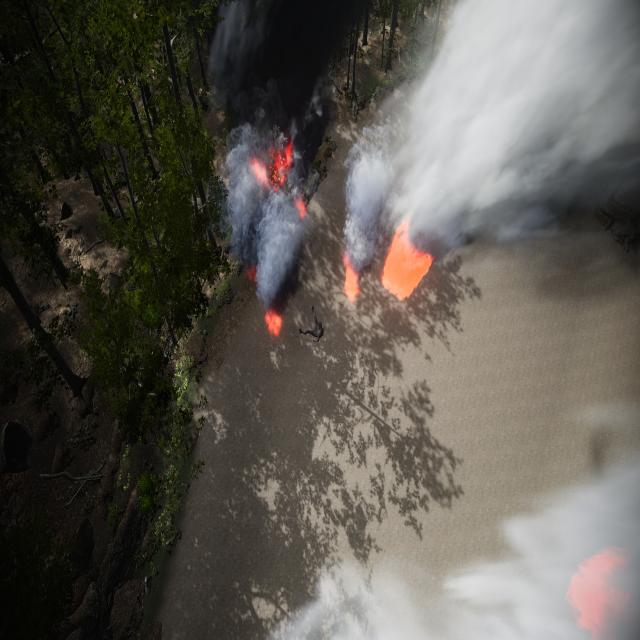Human: (290, 301, 332, 359)
